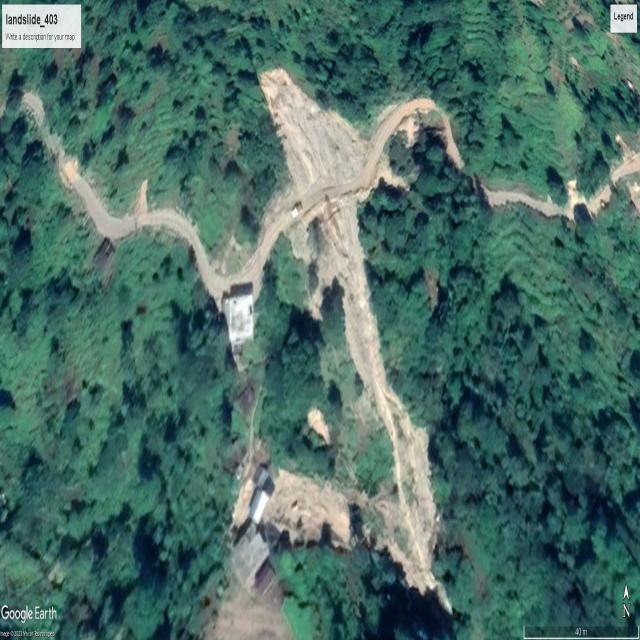Landslide: (315, 222, 446, 569), (264, 68, 366, 180)
